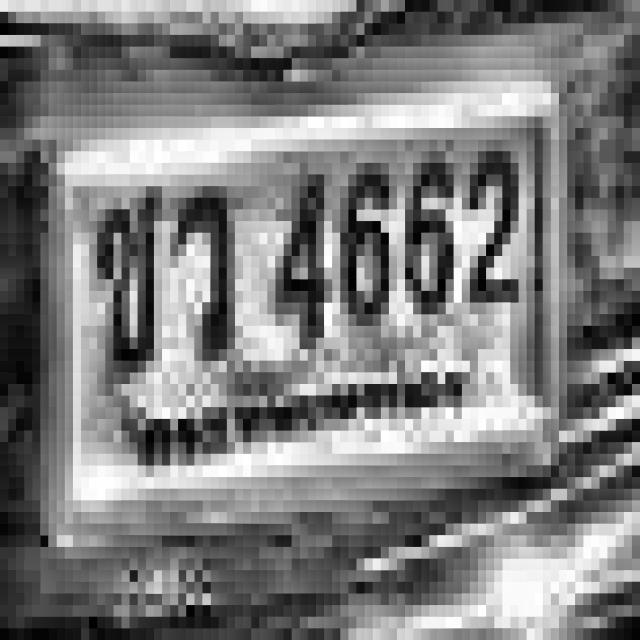license-plate: (38, 29, 582, 611)
